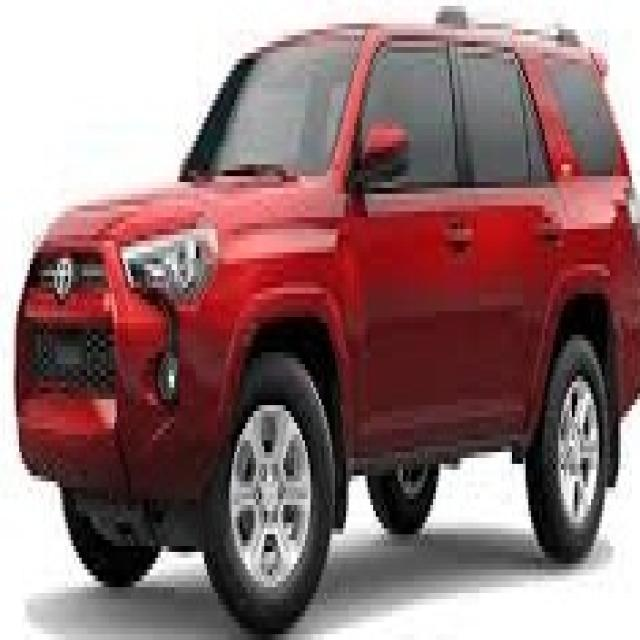red: (11, 7, 640, 582)
